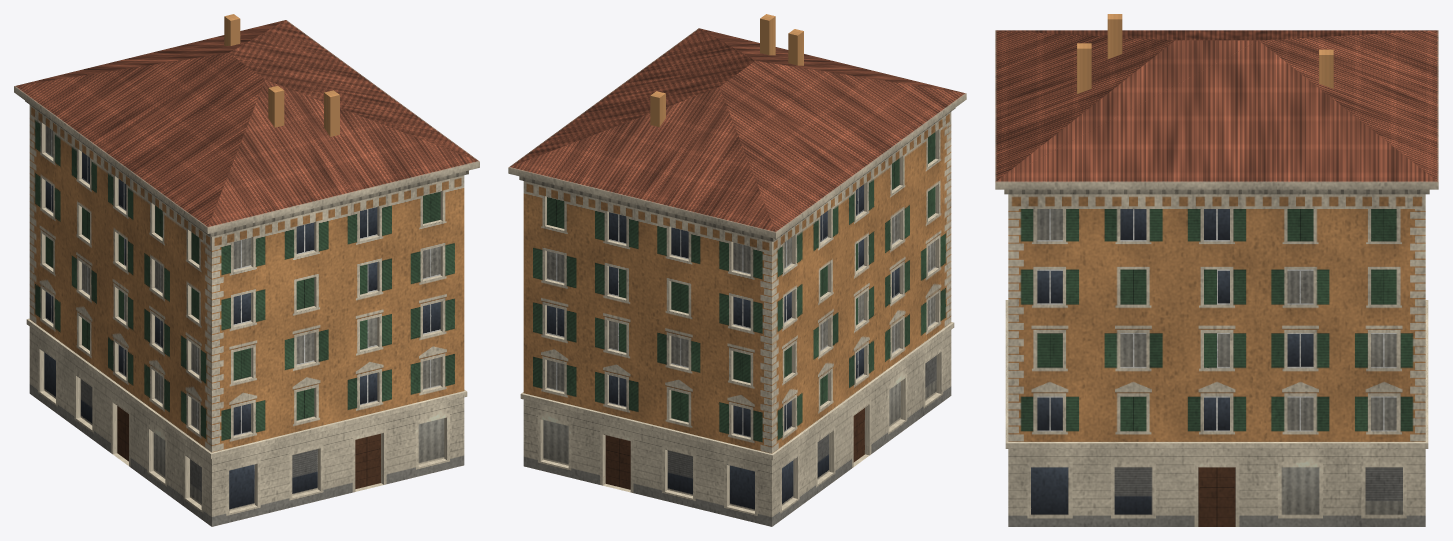
Rendered from SM_Fondale_Palazzo_C.fbx.
The picture shows the model from 3 angles, left to right: view 1: azimuth 30°, elevation 25°; view 2: azimuth 150°, elevation 25°; view 3: azimuth 270°, elevation 25°; orthographic projection. The views are drawn at different scales.
Parts seen in each view (by area): view 1: SM_Fondale_Palazzo_C; view 2: SM_Fondale_Palazzo_C; view 3: SM_Fondale_Palazzo_C.
Boxes of the visible parts, left/top/right/bottom form: SM_Fondale_Palazzo_C: left=14, top=14, right=479, bottom=526; SM_Fondale_Palazzo_C: left=508, top=14, right=966, bottom=526; SM_Fondale_Palazzo_C: left=995, top=14, right=1438, bottom=526.
Size of the model in its own units: 1724 by 2124 by 2279.
1 material, 1 textured.
